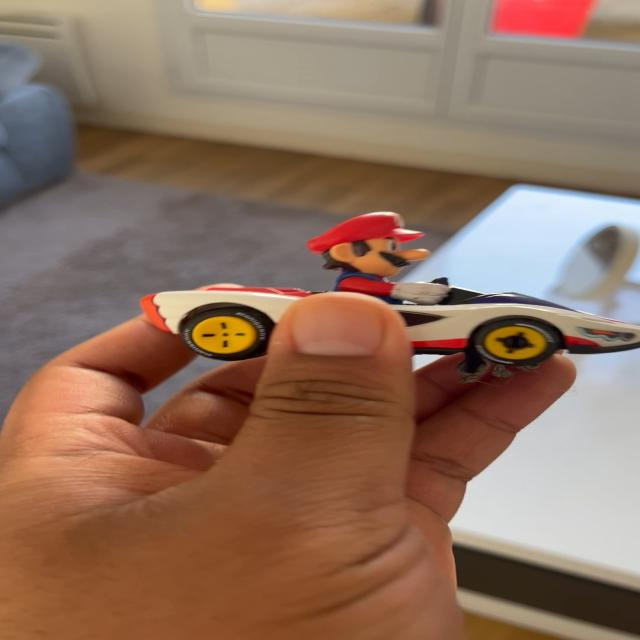mario: (150, 207, 624, 392)
